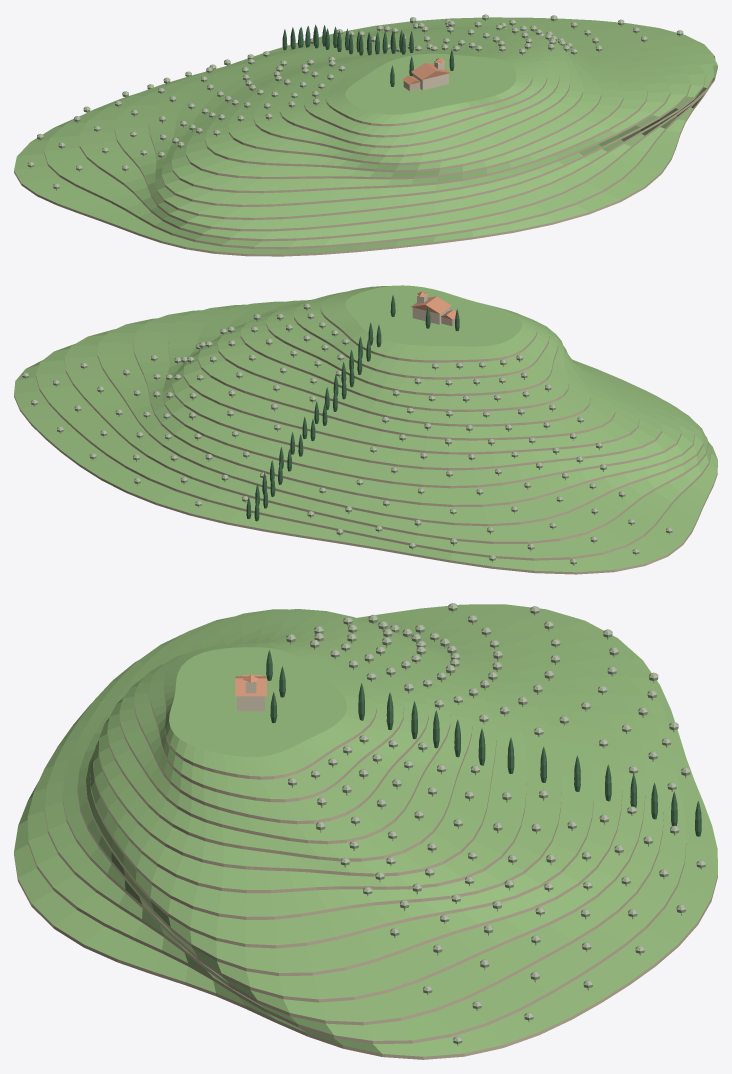
Rendered from tuscan_hill.glb.
The picture shows the model from 3 angles, top to bottom: view 1: azimuth 30°, elevation 25°; view 2: azimuth 150°, elevation 25°; view 3: azimuth 270°, elevation 25°; orthographic projection. The views are drawn at different scales.
Visible parts, largest first — view 1: terraces, olives, cypresses, farmhouse; view 2: terraces, olives, cypresses, farmhouse; view 3: terraces, olives, cypresses, farmhouse.
Part boxes in pixels (x1=…): terraces: x1=14, y1=17, x2=717, y2=256; olives: x1=27, y1=14, x2=683, y2=190; cypresses: x1=282, y1=24, x2=413, y2=55; farmhouse: x1=390, y1=50, x2=454, y2=91; terraces: x1=14, y1=285, x2=717, y2=574; olives: x1=22, y1=303, x2=672, y2=565; cypresses: x1=246, y1=322, x2=381, y2=521; farmhouse: x1=390, y1=291, x2=459, y2=331; terraces: x1=14, y1=604, x2=717, y2=1059; olives: x1=286, y1=603, x2=705, y2=1045; cypresses: x1=358, y1=683, x2=701, y2=836; farmhouse: x1=235, y1=650, x2=285, y2=722.
Size of the model in its own units: 494 by 81.39 by 325.
